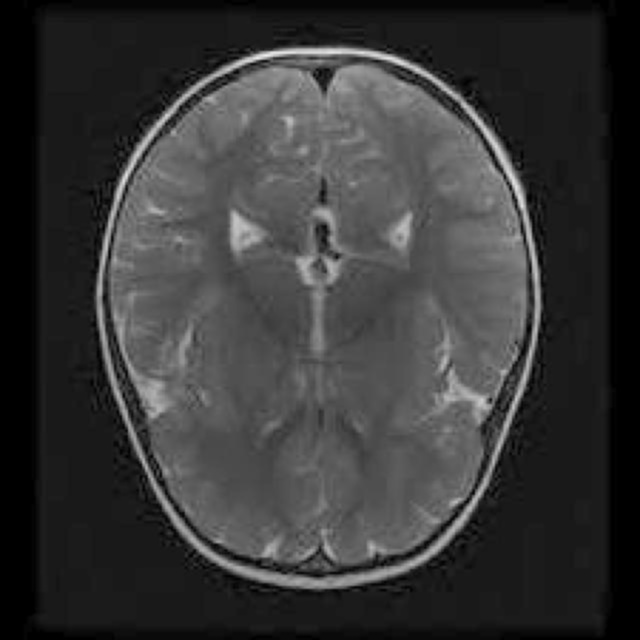glioma tumor: (170, 111, 480, 520)
